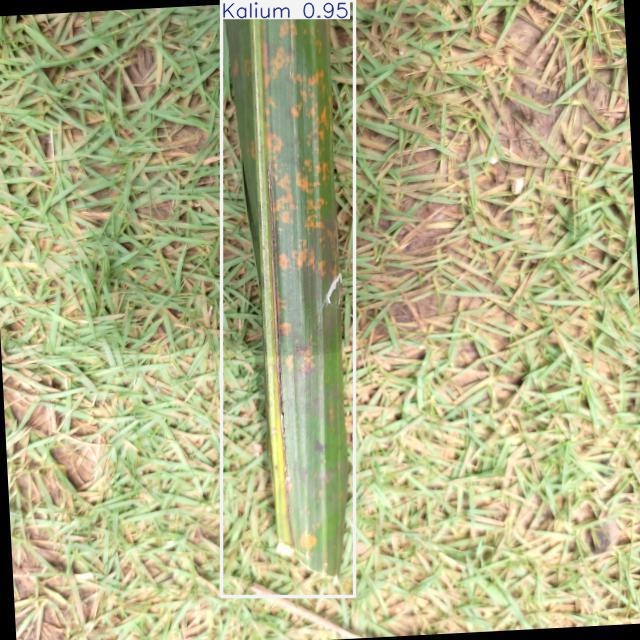Kalium: (221, 1, 354, 596)
